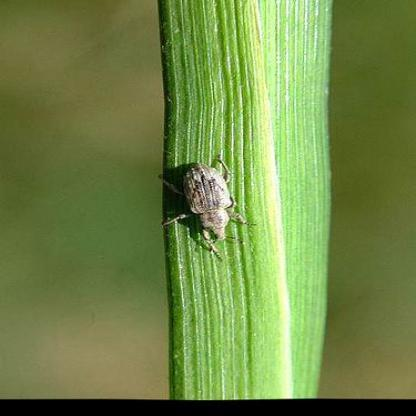rice-bug: (161, 160, 248, 248)
